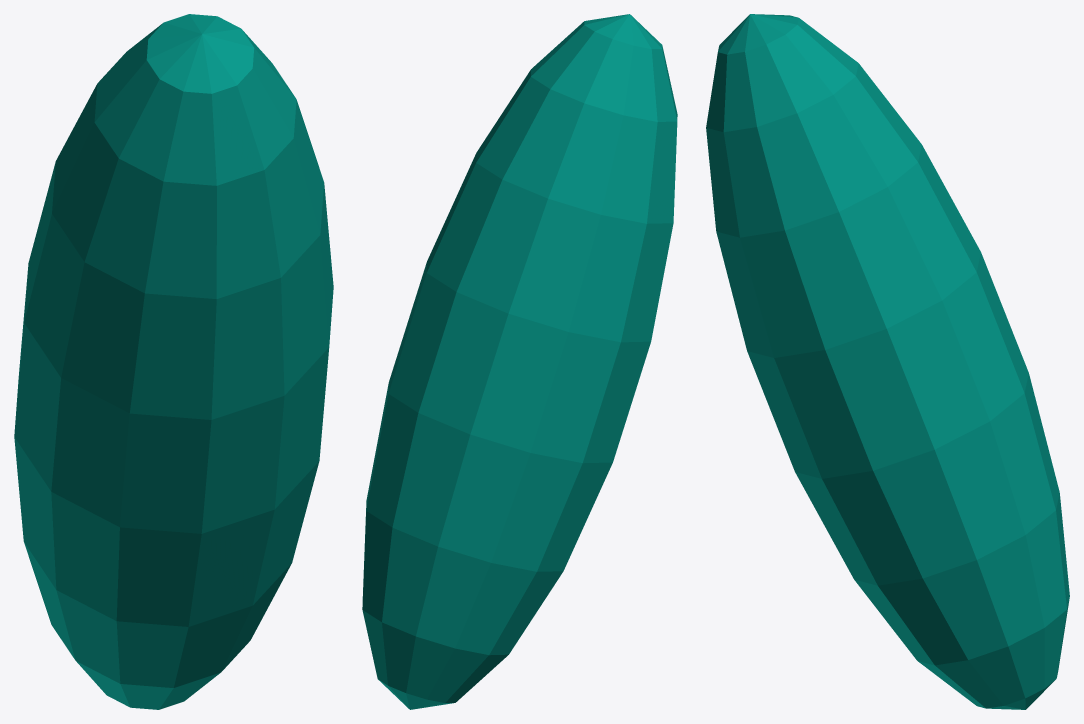
Rendered from n5_group100779543_lev5.001.glb.
3 views of the same model, side by side, from view 1: azimuth 30°, elevation 25°; view 2: azimuth 150°, elevation 25°; view 3: azimuth 270°, elevation 25° (orthographic). The views are drawn at different scales.
Parts seen in each view (by area): view 1: n5_group100779543_lev5.001; view 2: n5_group100779543_lev5.001; view 3: n5_group100779543_lev5.001.
Part boxes in pixels (x1=…): n5_group100779543_lev5.001: x1=14, y1=14, x2=333, y2=709; n5_group100779543_lev5.001: x1=362, y1=14, x2=677, y2=709; n5_group100779543_lev5.001: x1=706, y1=14, x2=1069, y2=709.
Bounding box in the file's own units: 0.4368 × 1.17 × 0.5912.
